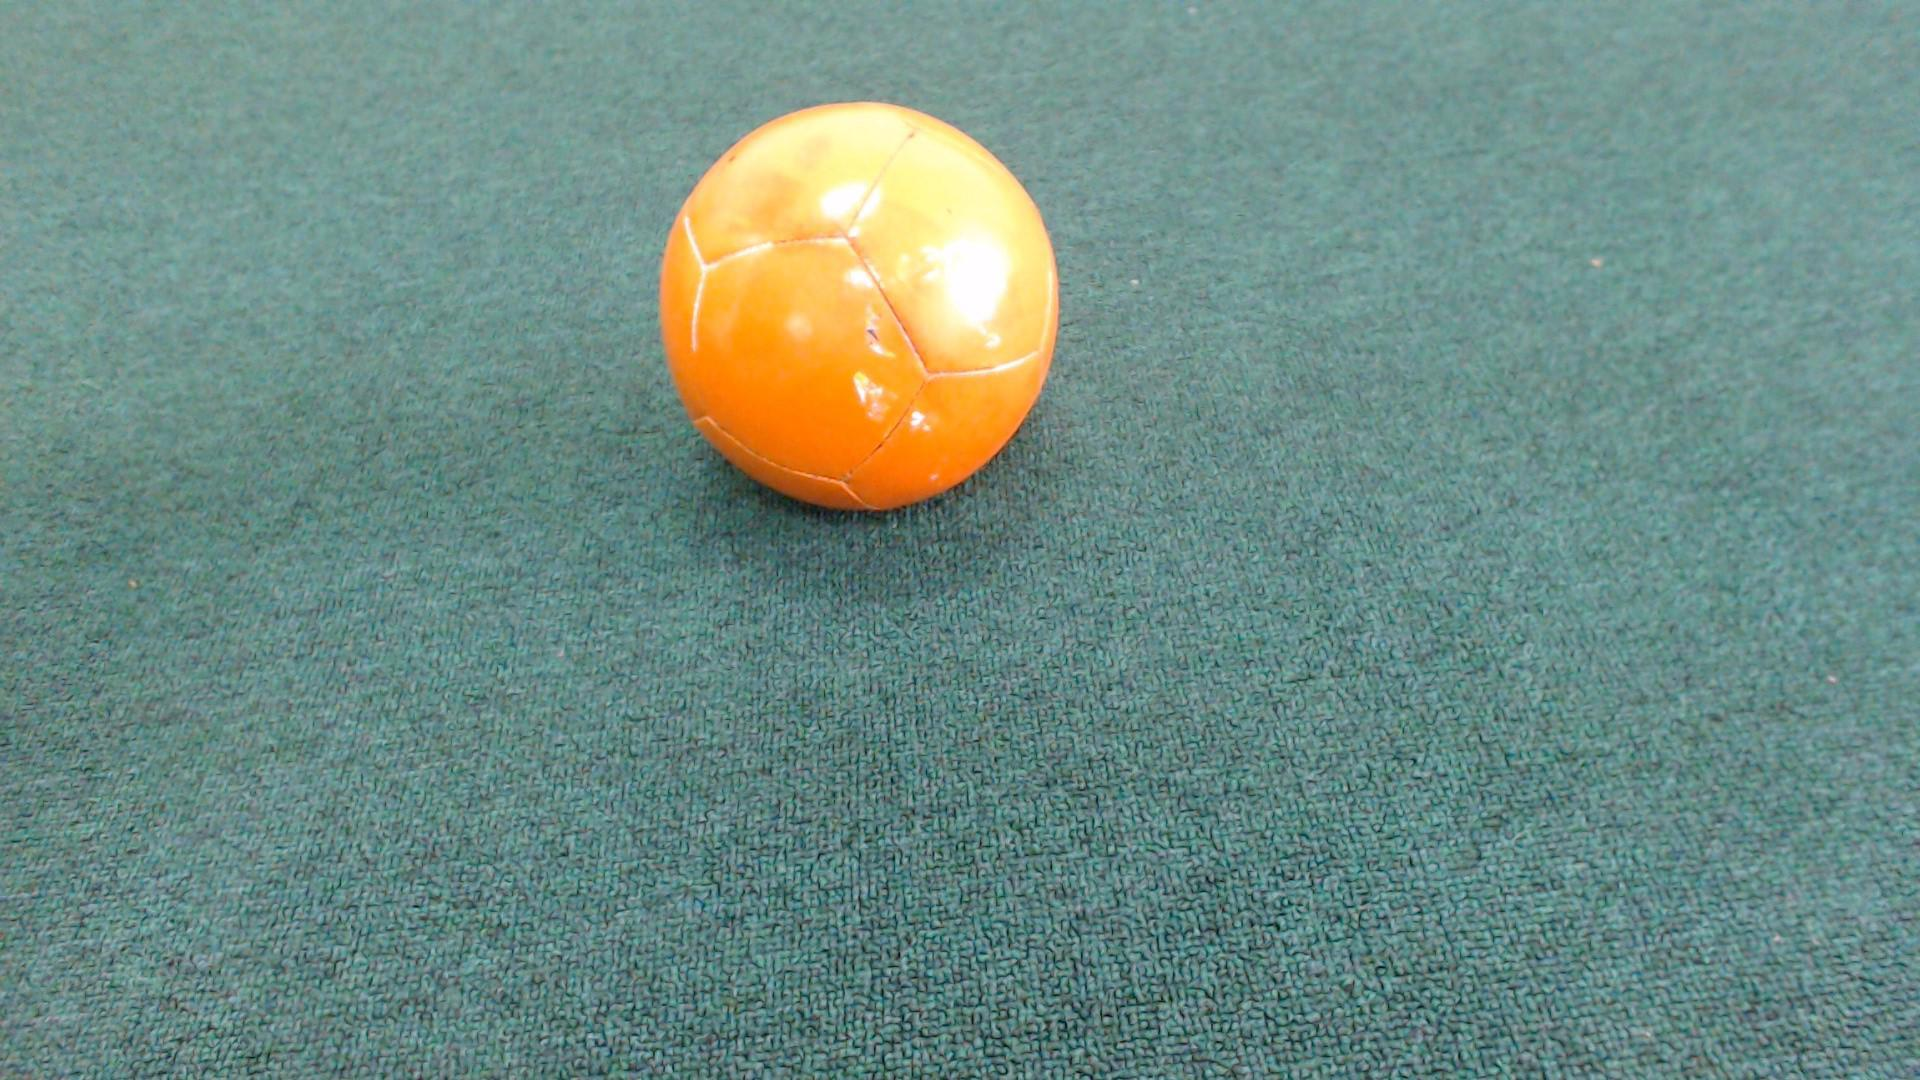bola: (633, 90, 1079, 527)
